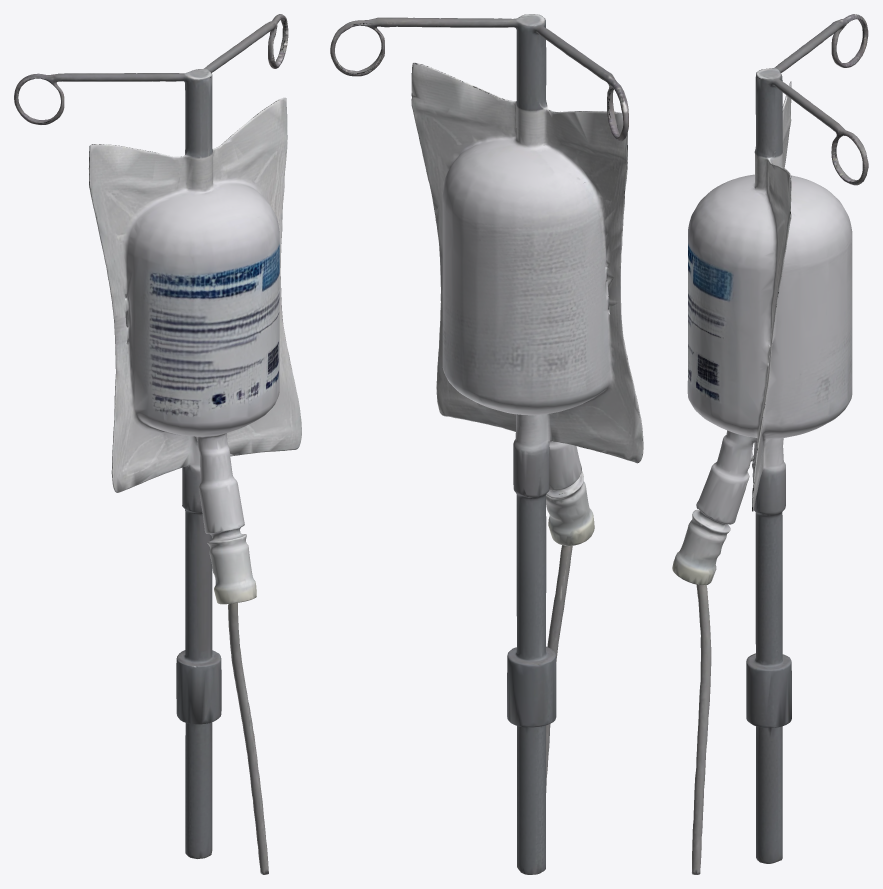
The model's file is vet_equip_iv_fluid_bag.glb.
The picture shows the model from 3 angles, left to right: view 1: azimuth 30°, elevation 25°; view 2: azimuth 150°, elevation 25°; view 3: azimuth 270°, elevation 25°; orthographic projection. The views are drawn at different scales.
Parts seen in each view (by area): view 1: model; view 2: model; view 3: model.
Part boxes in pixels (x1,y1,x2,y2): model: [14, 14, 301, 874]; model: [330, 14, 643, 874]; model: [672, 14, 868, 874].
Size of the model in its own units: 0.6968 by 1.9 by 0.4307.
1 material, 1 textured.
